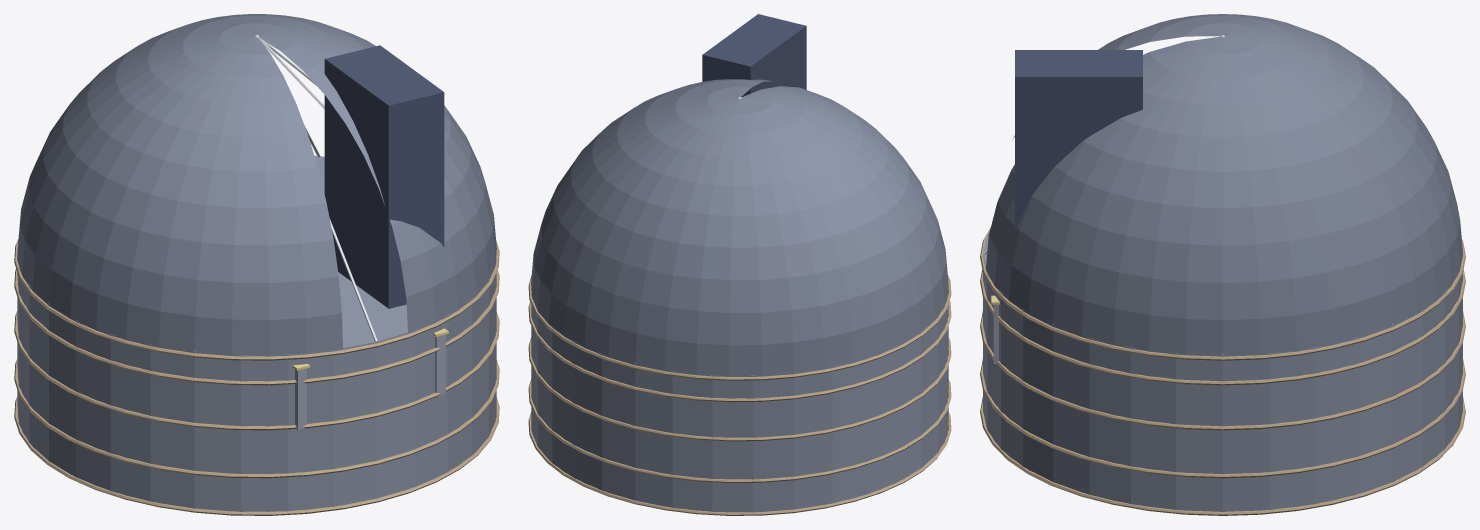
The model's file is observatorio_cupula.glb.
The picture shows the model from 3 angles, left to right: view 1: azimuth 30°, elevation 25°; view 2: azimuth 150°, elevation 25°; view 3: azimuth 270°, elevation 25°; orthographic projection. The views are drawn at different scales.
Visible parts, largest first — view 1: observatorio_cupula; view 2: observatorio_cupula; view 3: observatorio_cupula.
Boxes of the visible parts, box(x1,y1,x2,y2) form: observatorio_cupula: box(14, 14, 499, 515); observatorio_cupula: box(528, 14, 951, 515); observatorio_cupula: box(980, 14, 1465, 515).
Bounding box in the file's own units: 30.36 × 26.08 × 30.36.
